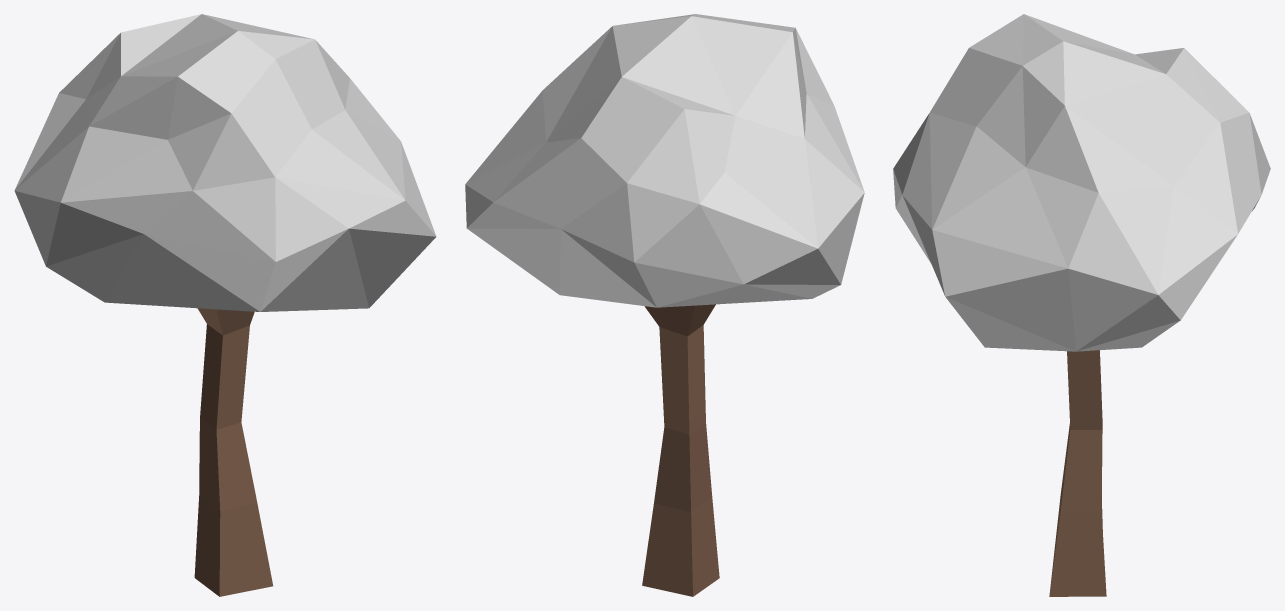
The model's file is Tree_28_White.fbx.
3 renders of one model, left to right at view 1: azimuth 30°, elevation 25°; view 2: azimuth 150°, elevation 25°; view 3: azimuth 270°, elevation 25°, orthographic. The views are drawn at different scales.
Visible parts, largest first — view 1: Tree_28_White_Part_1, Tree_28_White_Part_2; view 2: Tree_28_White_Part_1, Tree_28_White_Part_2; view 3: Tree_28_White_Part_1, Tree_28_White_Part_2.
Part boxes in pixels (box(x1,y1,x2,y2)): Tree_28_White_Part_1: box(14, 14, 436, 311); Tree_28_White_Part_2: box(194, 308, 273, 596); Tree_28_White_Part_1: box(465, 14, 864, 307); Tree_28_White_Part_2: box(642, 304, 719, 596); Tree_28_White_Part_1: box(893, 14, 1270, 351); Tree_28_White_Part_2: box(1049, 350, 1106, 596).
Bounding box in the file's own units: 529 × 802 × 506.
